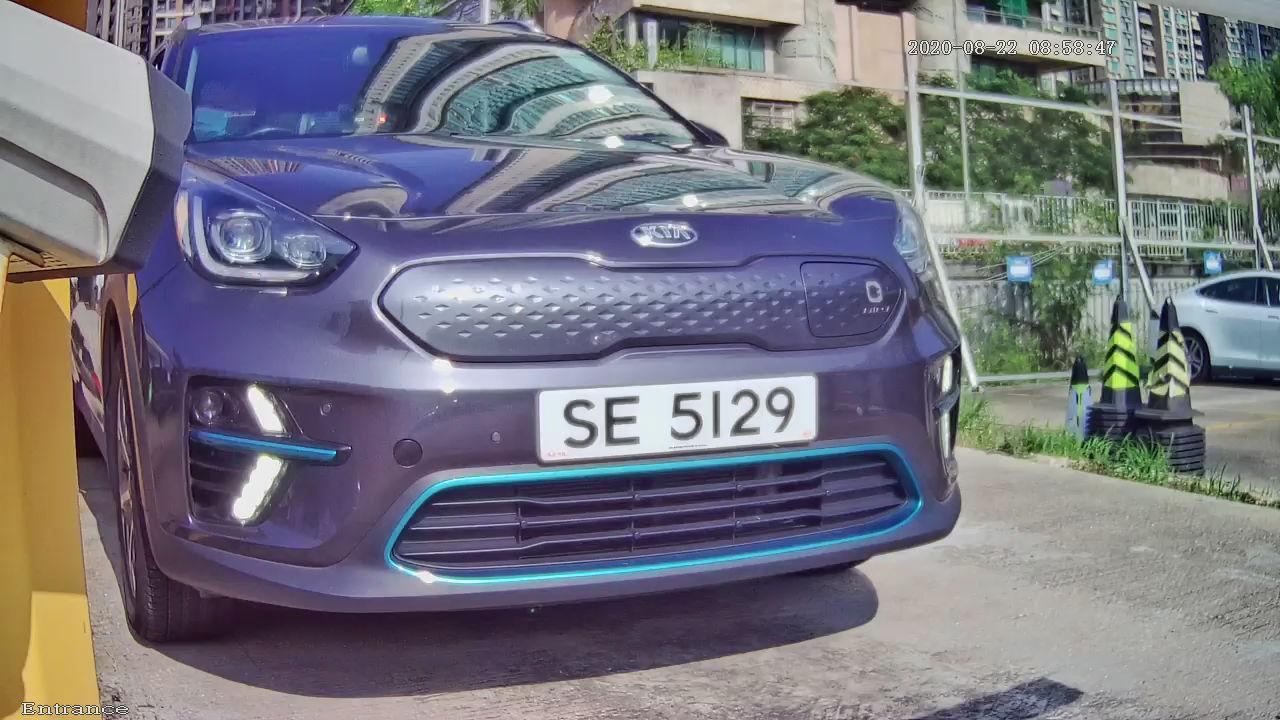Car: (1, 7, 1052, 688)
License Plate: (526, 361, 835, 473)
